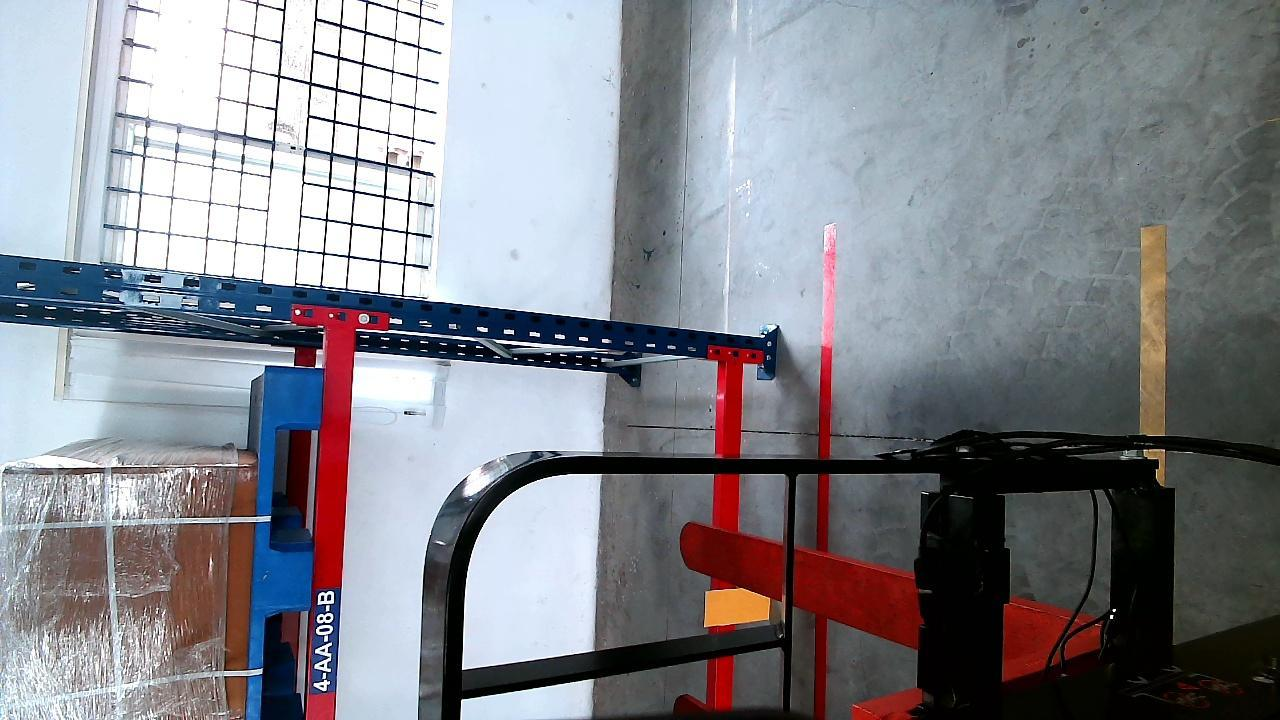red_line: (817, 225, 837, 472)
yellow_line: (1141, 222, 1166, 447)
